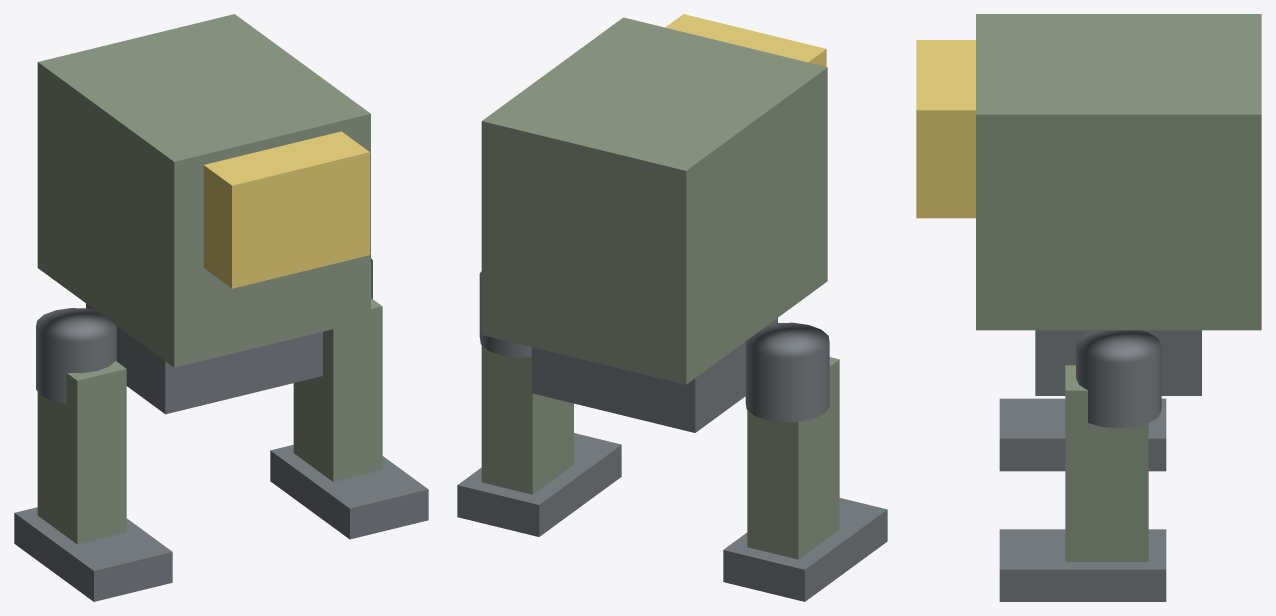
File: vanguard_tactical_mech.glb
3 views of the same model, side by side, from view 1: azimuth 30°, elevation 25°; view 2: azimuth 150°, elevation 25°; view 3: azimuth 270°, elevation 25° (orthographic). The views are drawn at different scales.
Visible parts, largest first — view 1: Torso_Core, Cockpit_Canopy, Femur_Piston_Left, Femur_Piston_Right, Pelvis_Assembly, Foot_Pad_Right, Foot_Pad_Left, Hip_Actuator_Left; view 2: Torso_Core, Femur_Piston_Left, Pelvis_Assembly, Femur_Piston_Right, Foot_Pad_Left, Foot_Pad_Right, Hip_Actuator_Left, Cockpit_Canopy, Hip_Actuator_Right; view 3: Torso_Core, Femur_Piston_Right, Cockpit_Canopy, Foot_Pad_Right, Hip_Actuator_Right, Foot_Pad_Left, Pelvis_Assembly.
Part boxes in pixels (<box>): Torso_Core: <box>37,14,370,367</box>; Cockpit_Canopy: <box>203,131,369,288</box>; Femur_Piston_Left: <box>37,361,126,544</box>; Femur_Piston_Right: <box>293,298,382,481</box>; Pelvis_Assembly: <box>86,303,322,414</box>; Foot_Pad_Right: <box>270,444,428,539</box>; Foot_Pad_Left: <box>14,507,172,601</box>; Hip_Actuator_Left: <box>36,308,116,403</box>; Torso_Core: <box>481,17,827,384</box>; Femur_Piston_Left: <box>747,357,839,559</box>; Pelvis_Assembly: <box>531,318,777,432</box>; Femur_Piston_Right: <box>481,345,573,494</box>; Foot_Pad_Left: <box>723,498,887,601</box>; Foot_Pad_Right: <box>457,433,621,536</box>; Hip_Actuator_Left: <box>745,322,829,422</box>; Cockpit_Canopy: <box>665,14,826,66</box>; Hip_Actuator_Right: <box>479,271,531,357</box>; Torso_Core: <box>976,14,1261,330</box>; Femur_Piston_Right: <box>1065,365,1148,561</box>; Cockpit_Canopy: <box>916,40,975,218</box>; Foot_Pad_Right: <box>999,529,1166,601</box>; Hip_Actuator_Right: <box>1076,330,1161,428</box>; Foot_Pad_Left: <box>999,398,1166,471</box>; Pelvis_Assembly: <box>1035,330,1201,395</box>.
Size of the model in its own units: 1.7 by 2.09 by 1.45.
